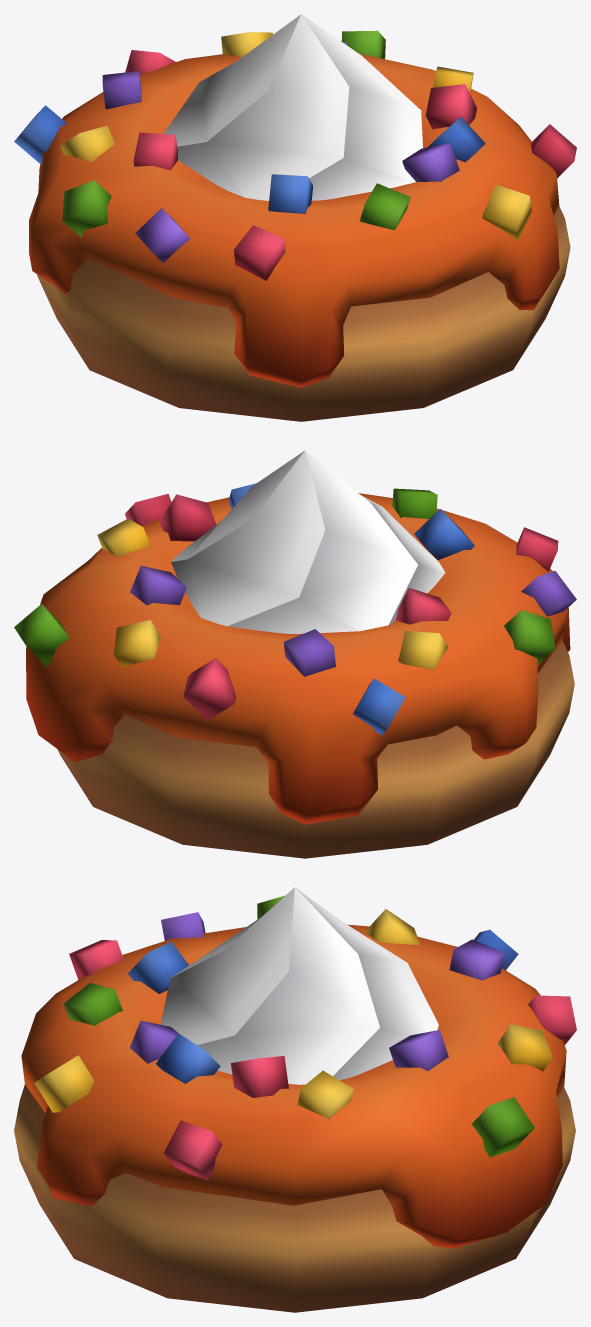
Rendered from m_Donut17.fbx.
3 renders of one model, top to bottom at view 1: azimuth 30°, elevation 25°; view 2: azimuth 150°, elevation 25°; view 3: azimuth 270°, elevation 25°, orthographic. The views are drawn at different scales.
Visible parts, largest first — view 1: m_Donut17; view 2: m_Donut17; view 3: m_Donut17.
Part boxes in pixels (bbox=[...]): m_Donut17: bbox=[14, 14, 576, 421]; m_Donut17: bbox=[14, 450, 576, 858]; m_Donut17: bbox=[14, 887, 576, 1312].
Size of the model in its own units: 12.47 by 8.32 by 12.18.
